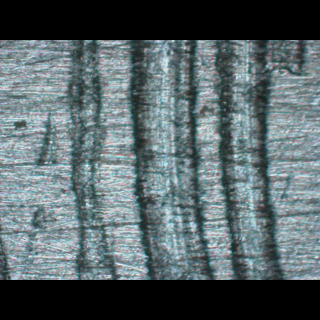d: (51, 40, 295, 279)
